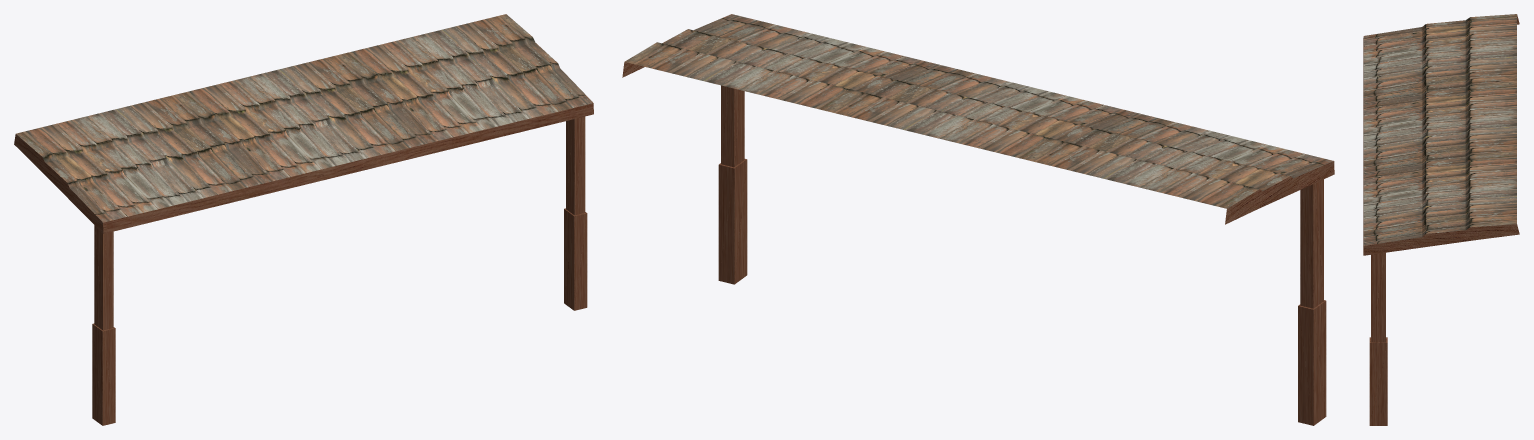
File: R1_Terpal.fbx
The picture shows the model from 3 angles, left to right: view 1: azimuth 30°, elevation 25°; view 2: azimuth 150°, elevation 25°; view 3: azimuth 270°, elevation 25°; orthographic projection. The views are drawn at different scales.
Parts seen in each view (by area): view 1: Cube.031; view 2: Cube.031; view 3: Cube.031.
Boxes of the visible parts, left/top/right/bottom form: Cube.031: left=14, top=14, right=593, bottom=425; Cube.031: left=622, top=14, right=1334, bottom=425; Cube.031: left=1363, top=14, right=1519, bottom=425.
Size of the model in its own units: 14.42 by 6.5 by 4.54.
2 materials, 2 textured.
